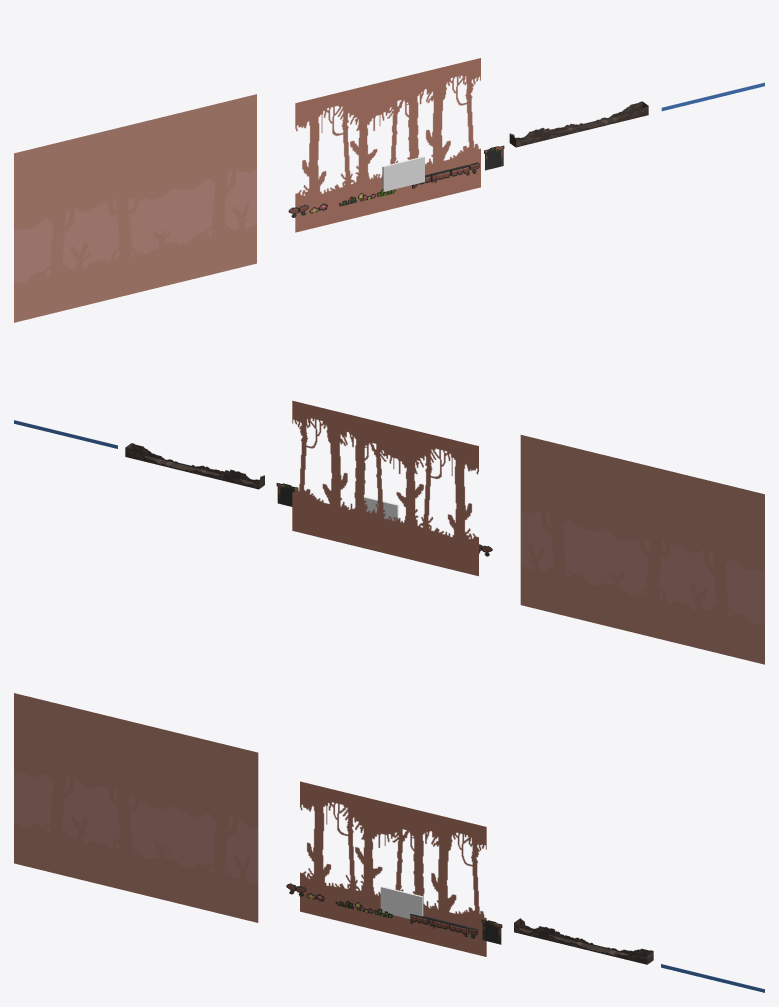
The model's file is assets_for_test.glb.
3 views of the same model, one above another, from view 1: azimuth 30°, elevation 25°; view 2: azimuth 150°, elevation 25°; view 3: azimuth 330°, elevation 25° (orthographic).
Parts seen in each view (by area): view 1: bg_0.001, bg_1.001, fg_1.001, trap_suspended_anim; view 2: bg_0.001, bg_1.001, fg_1.001; view 3: bg_0.001, bg_1.001, fg_1.001, trap_suspended_anim.
Boxes of the visible parts, x1,y1,x2,y2 form: bg_0.001: (14,94,256,322); bg_1.001: (295,58,480,232); fg_1.001: (509,101,648,147); trap_suspended_anim: (382,156,424,191); bg_0.001: (520,435,764,664); bg_1.001: (292,400,478,576); fg_1.001: (125,443,264,489); bg_0.001: (14,693,258,922); bg_1.001: (300,781,486,956); fg_1.001: (514,918,653,964); trap_suspended_anim: (380,886,423,918).
Bounding box in the file's own units: 10.87 × 2.35 × 0.1575.
Materials: 16 (15 with a texture image).
